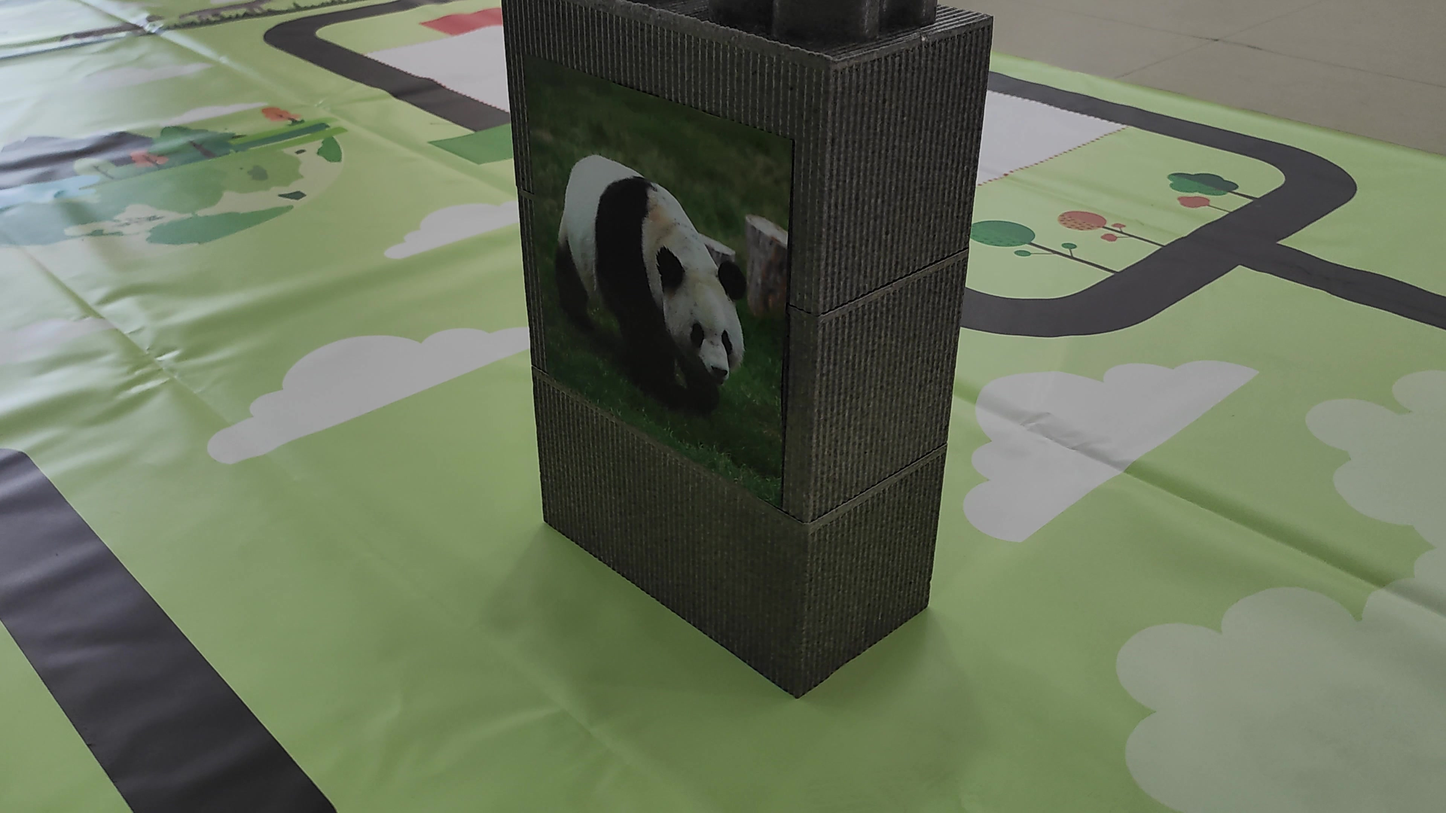panda: (525, 151, 751, 398)
